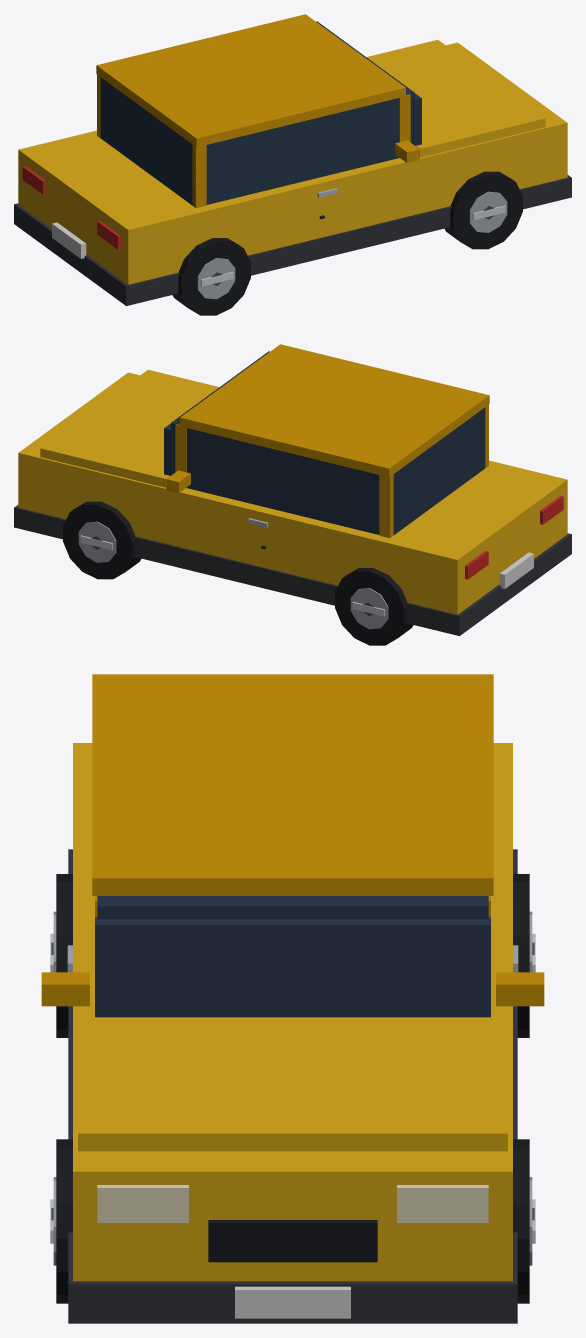
Rendered from car_yellow.glb.
3 views of the same model, one above another, from view 1: azimuth 30°, elevation 25°; view 2: azimuth 150°, elevation 25°; view 3: azimuth 270°, elevation 25° (orthographic). The views are drawn at different scales.
Visible parts, largest first — view 1: gh_car_yellow__body, gh_car_yellow__wheel0, gh_car_yellow__wheel2; view 2: gh_car_yellow__body, gh_car_yellow__wheel1, gh_car_yellow__wheel3; view 3: gh_car_yellow__body, gh_car_yellow__wheel0, gh_car_yellow__wheel1, gh_car_yellow__wheel2, gh_car_yellow__wheel3.
Boxes of the visible parts, x1=… form: gh_car_yellow__body: x1=14, y1=14, x2=571, y2=305; gh_car_yellow__wheel0: x1=445, y1=171, x2=522, y2=249; gh_car_yellow__wheel2: x1=172, y1=238, x2=250, y2=315; gh_car_yellow__body: x1=14, y1=344, x2=571, y2=635; gh_car_yellow__wheel1: x1=63, y1=501, x2=140, y2=579; gh_car_yellow__wheel3: x1=335, y1=568, x2=413, y2=645; gh_car_yellow__body: x1=41, y1=674, x2=544, y2=1323; gh_car_yellow__wheel0: x1=50, y1=1139, x2=72, y2=1303; gh_car_yellow__wheel1: x1=513, y1=1139, x2=535, y2=1303; gh_car_yellow__wheel2: x1=50, y1=874, x2=72, y2=1037; gh_car_yellow__wheel3: x1=513, y1=874, x2=535, y2=1037.
Size of the model in its own units: 4.33 by 1.58 by 2.08.
